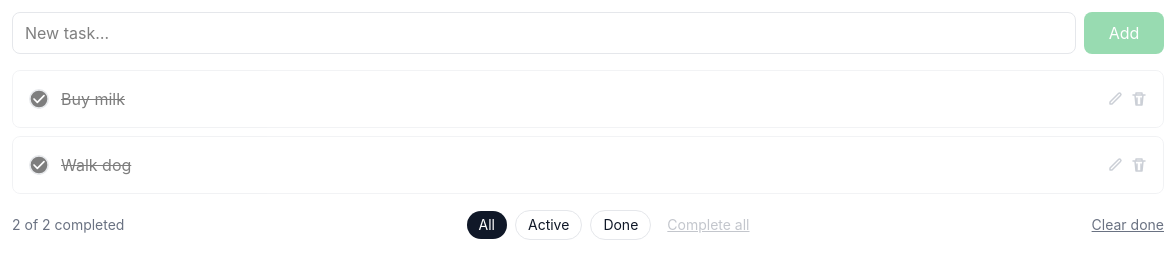
Test: bulk action error feedback › shows a toast and restores only the failed task when Clear done partially fails
Check: the text "Buy milk" is shown, box top-left (61, 89), bottom-right (125, 109)
Click the button "Clear done".
click(1128, 225)  # box top-left (1092, 215), bottom-right (1164, 235)
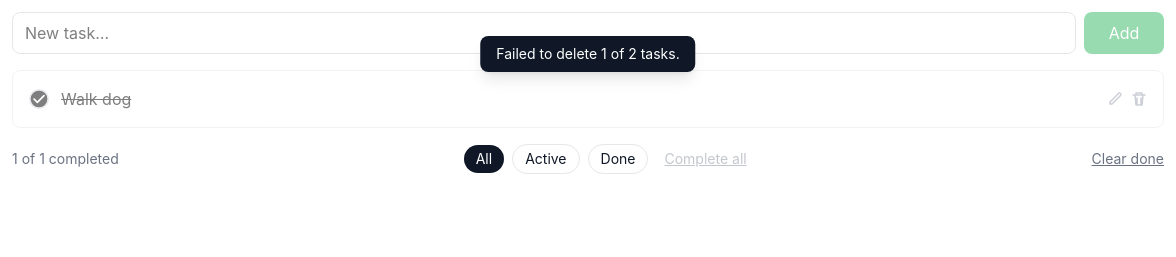
Check: the text "Walk dog" is shown, box top-left (61, 89), bottom-right (131, 109)
Check: the message reads "Failed to delete 1 of 2 tasks.", box top-left (496, 45), bottom-right (680, 62)
Check: the text "Buy milk" is gone
